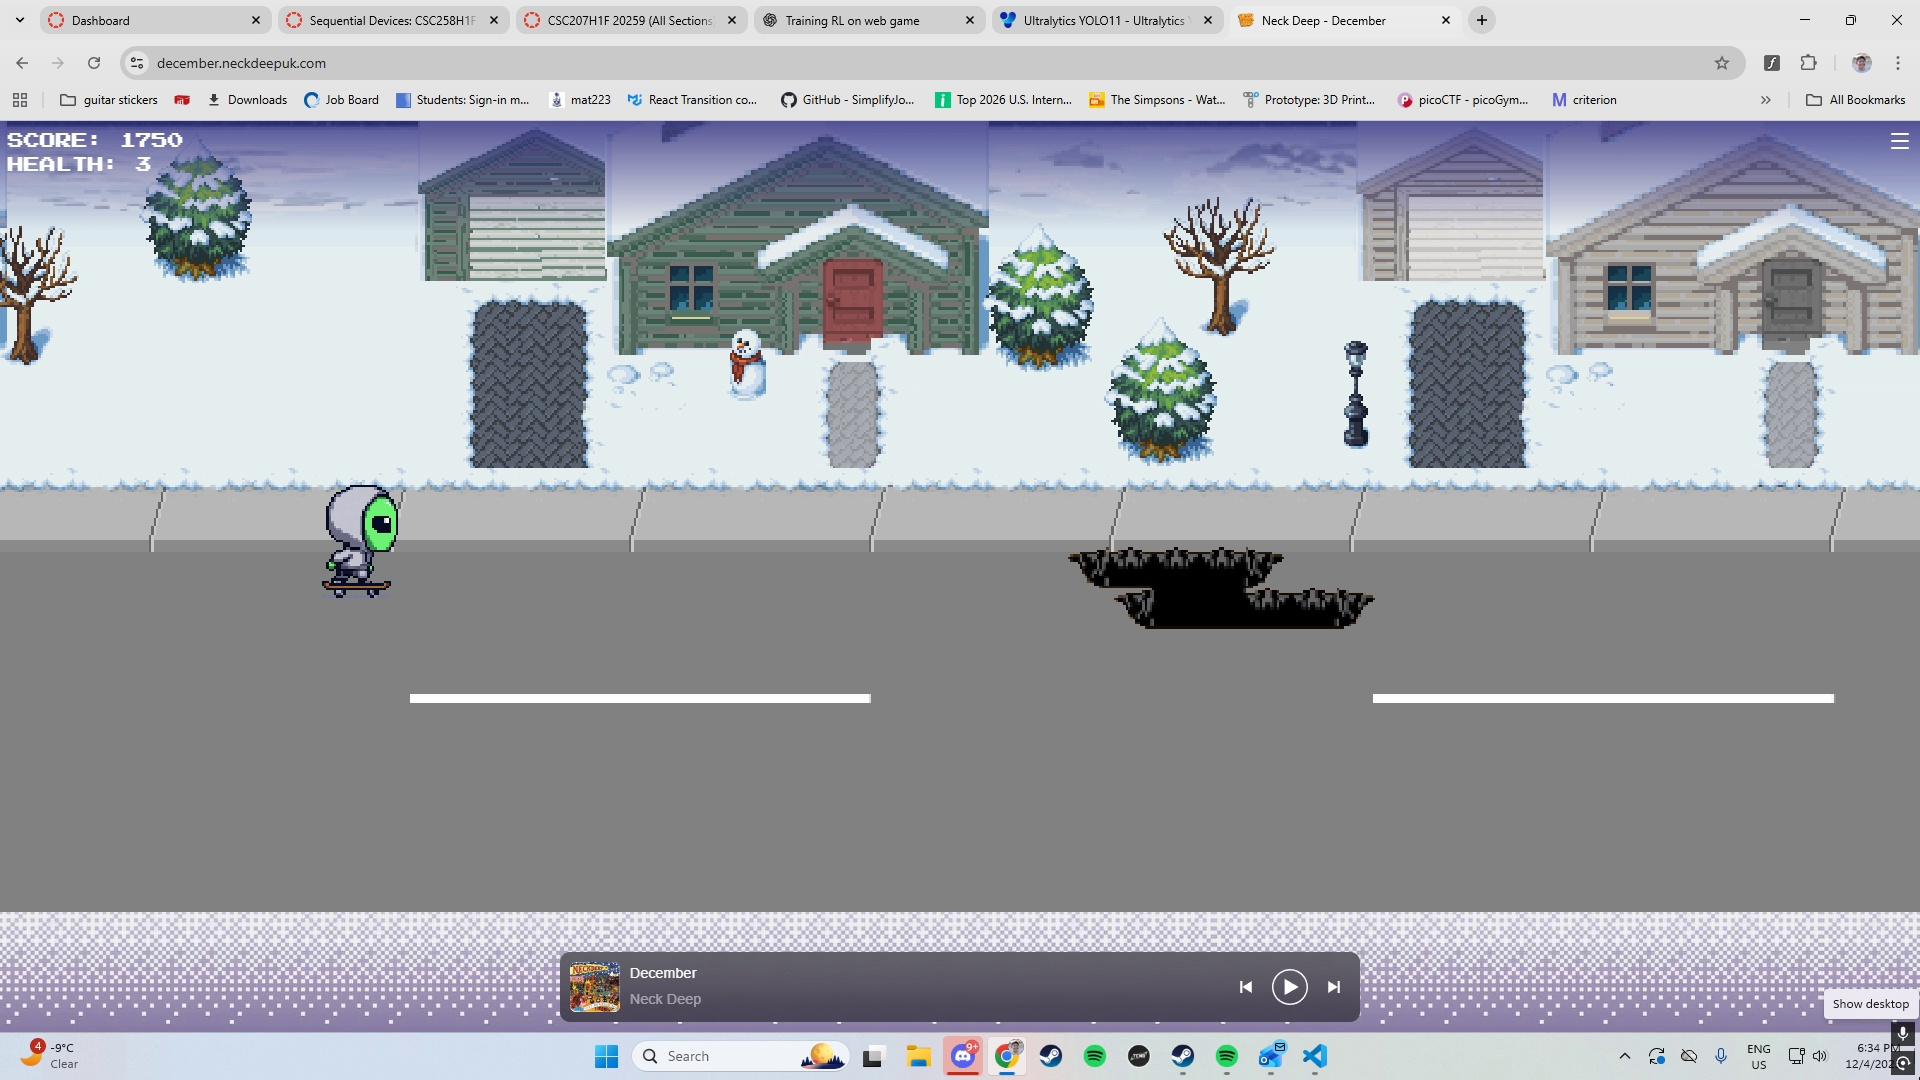Hole: (1054, 540, 1386, 640)
Player: (314, 477, 408, 601)
